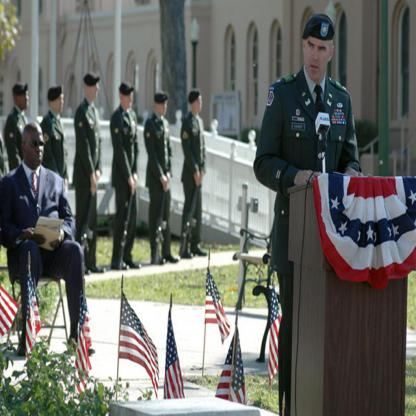face: (306, 35, 331, 79), (26, 134, 45, 165), (53, 95, 64, 112), (18, 92, 29, 109), (89, 84, 100, 99), (124, 94, 134, 108), (159, 101, 168, 115), (195, 98, 203, 112)
